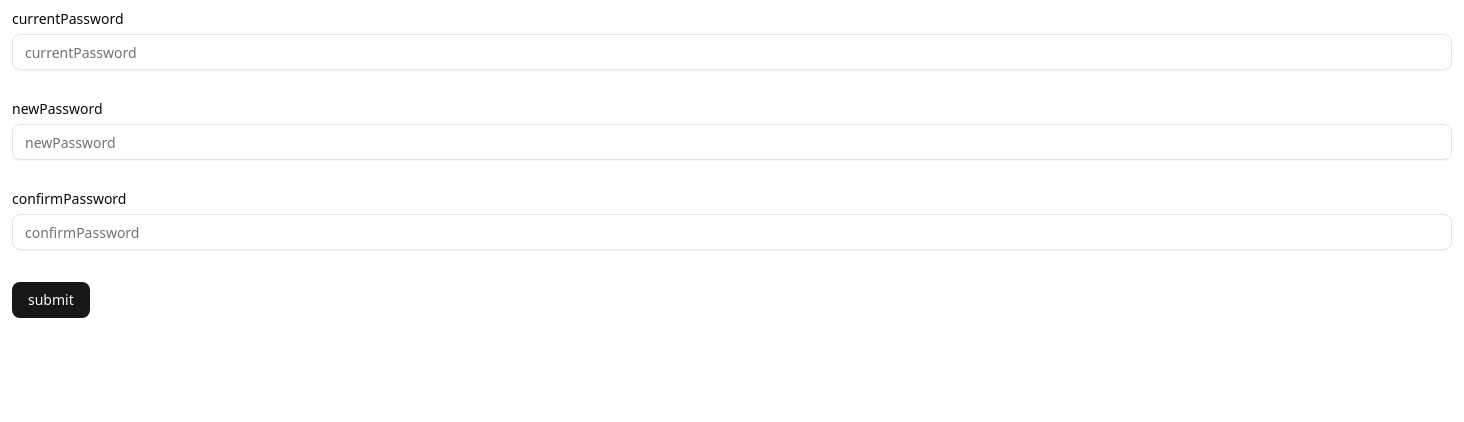
Test: shows pleaseInput under each field when submitted empty
The image size is (1464, 422).
Click the button "submit": point(51, 300) [12, 282, 90, 318]
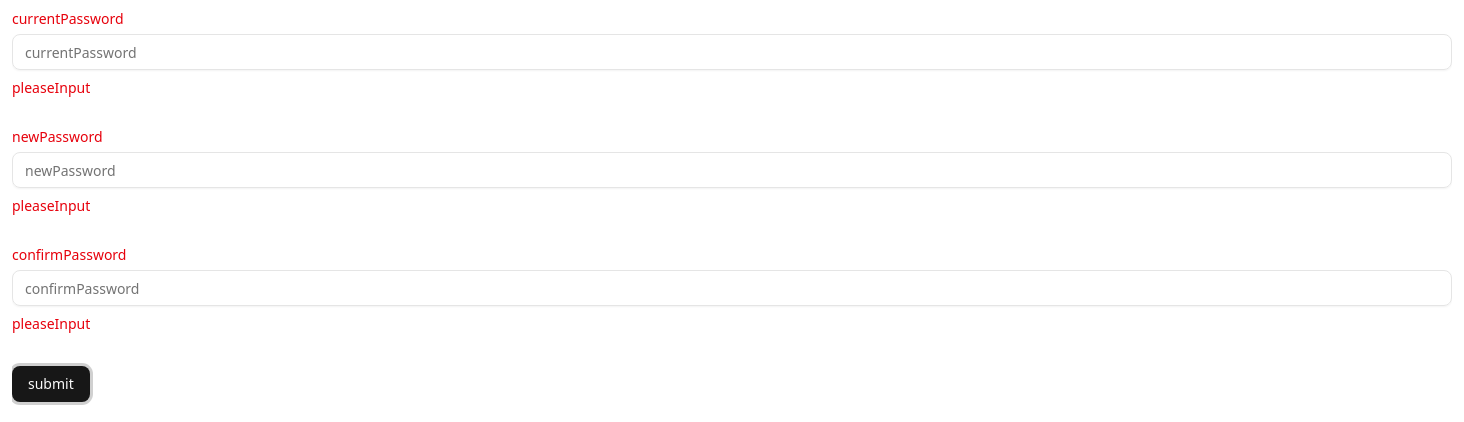
Check: the text "pleaseInput" is shown 3 times, box [12, 78, 90, 97]; [12, 196, 90, 215]; [12, 314, 90, 333]
